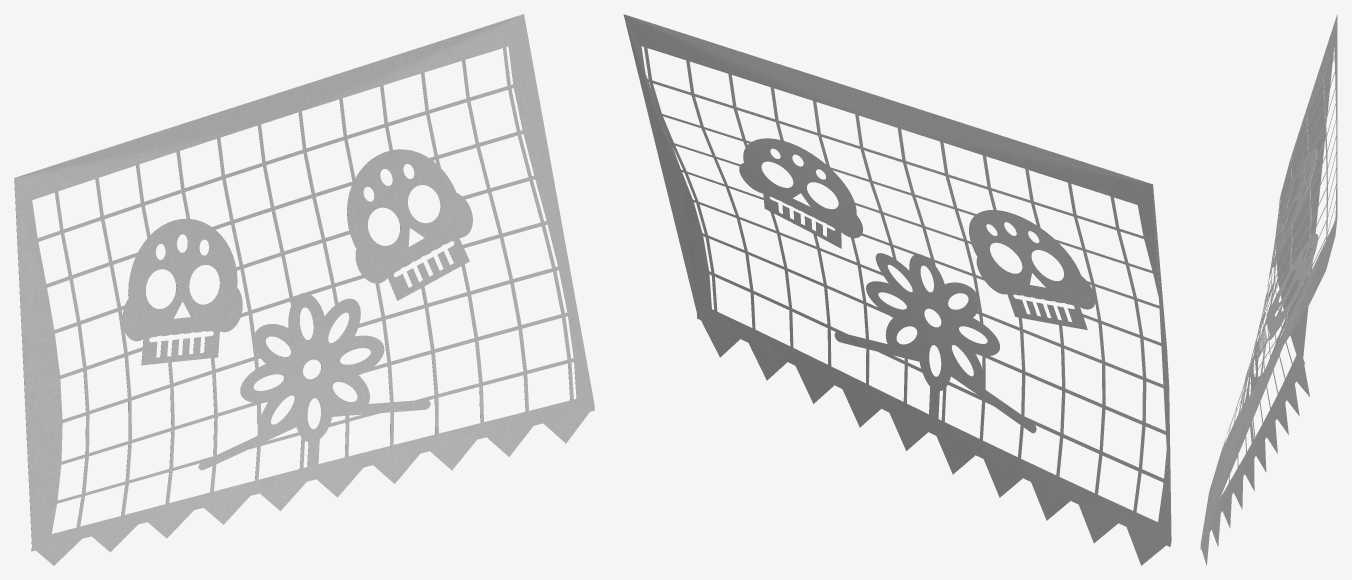
The model's file is papel_6_animado.glb.
3 renders of one model, left to right at view 1: azimuth 30°, elevation 25°; view 2: azimuth 150°, elevation 25°; view 3: azimuth 270°, elevation 25°, orthographic. The views are drawn at different scales.
Visible parts, largest first — view 1: Papel_6; view 2: Papel_6; view 3: Papel_6.
Part boxes in pixels (x1,y1,x2,y2): Papel_6: (14,14,594,565); Papel_6: (623,14,1171,565); Papel_6: (1200,14,1337,565).
Size of the model in its own units: 0.58 by 0.4604 by 0.1397.
1 material, 1 textured.
